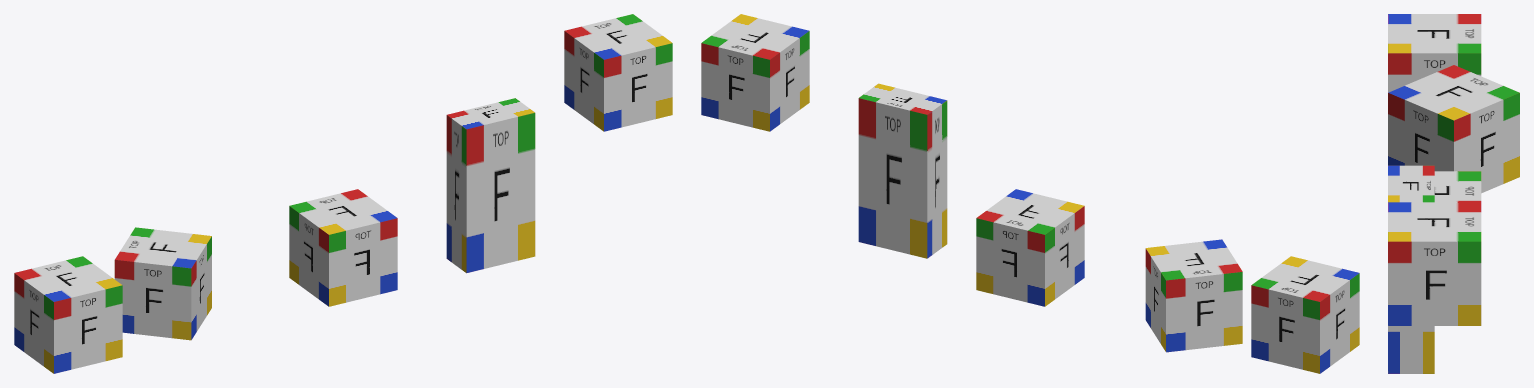
Rendered from hierarchy.glb.
3 views of the same model, side by side, from view 1: azimuth 30°, elevation 25°; view 2: azimuth 150°, elevation 25°; view 3: azimuth 270°, elevation 25° (orthographic). The views are drawn at different scales.
Visible parts, largest first — view 1: stretched, plain, deepest, mirrored, rotated; view 2: stretched, plain, deepest, mirrored, rotated; view 3: rotated, deepest, plain, stretched, mirrored.
Boxes of the visible parts, x1,y1,x2,y2 form: stretched: (446, 98, 535, 273); plain: (14, 256, 122, 373); deepest: (564, 14, 672, 131); mirrored: (289, 189, 397, 306); rotated: (114, 227, 211, 340); stretched: (858, 83, 947, 258); plain: (1251, 256, 1359, 373); deepest: (701, 14, 809, 131); mirrored: (976, 189, 1084, 306); rotated: (1145, 239, 1242, 352); rotated: (1388, 65, 1519, 193); deepest: (1388, 202, 1481, 325); plain: (1388, 14, 1481, 92); stretched: (1388, 165, 1434, 373); mirrored: (1434, 171, 1481, 202).
Bounding box in the file's own units: 0.09 × 0.025 × 0.0141.
Materials: 1 (1 with a texture image).
